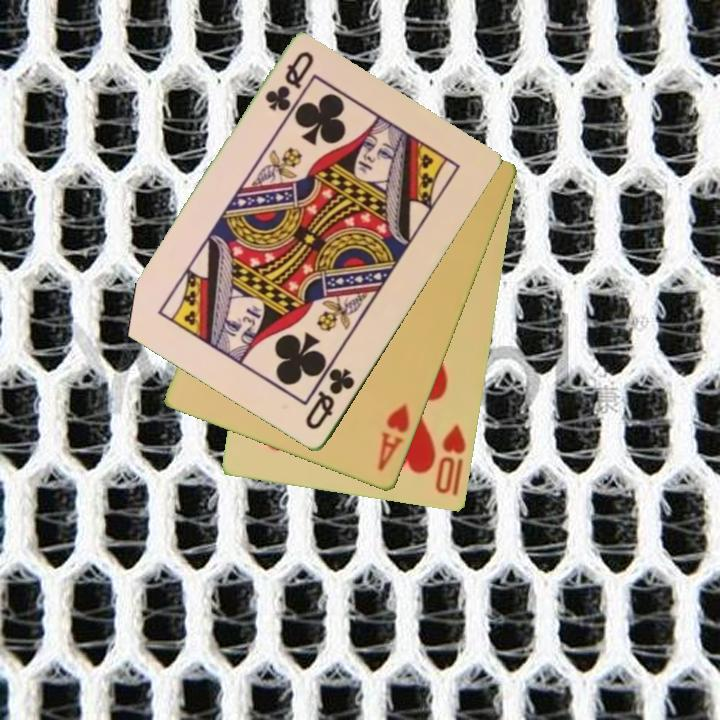10h: (432, 421, 470, 499)
Ah: (374, 400, 413, 474)
Qc: (302, 364, 358, 434), (261, 48, 317, 115)
